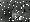person: (14, 8, 20, 22), (21, 8, 27, 20)
